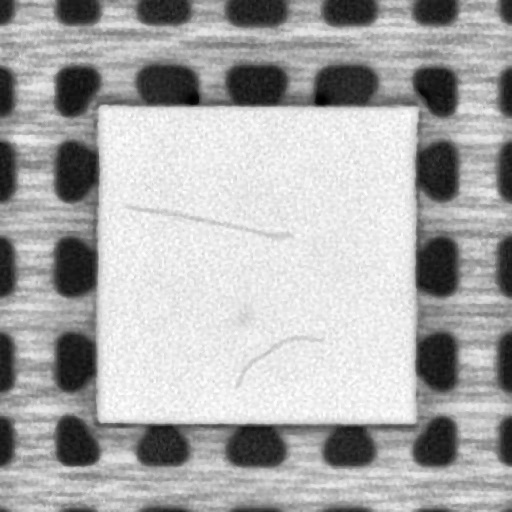DIE_CRACK: (123, 202, 290, 240), (237, 330, 322, 385)
